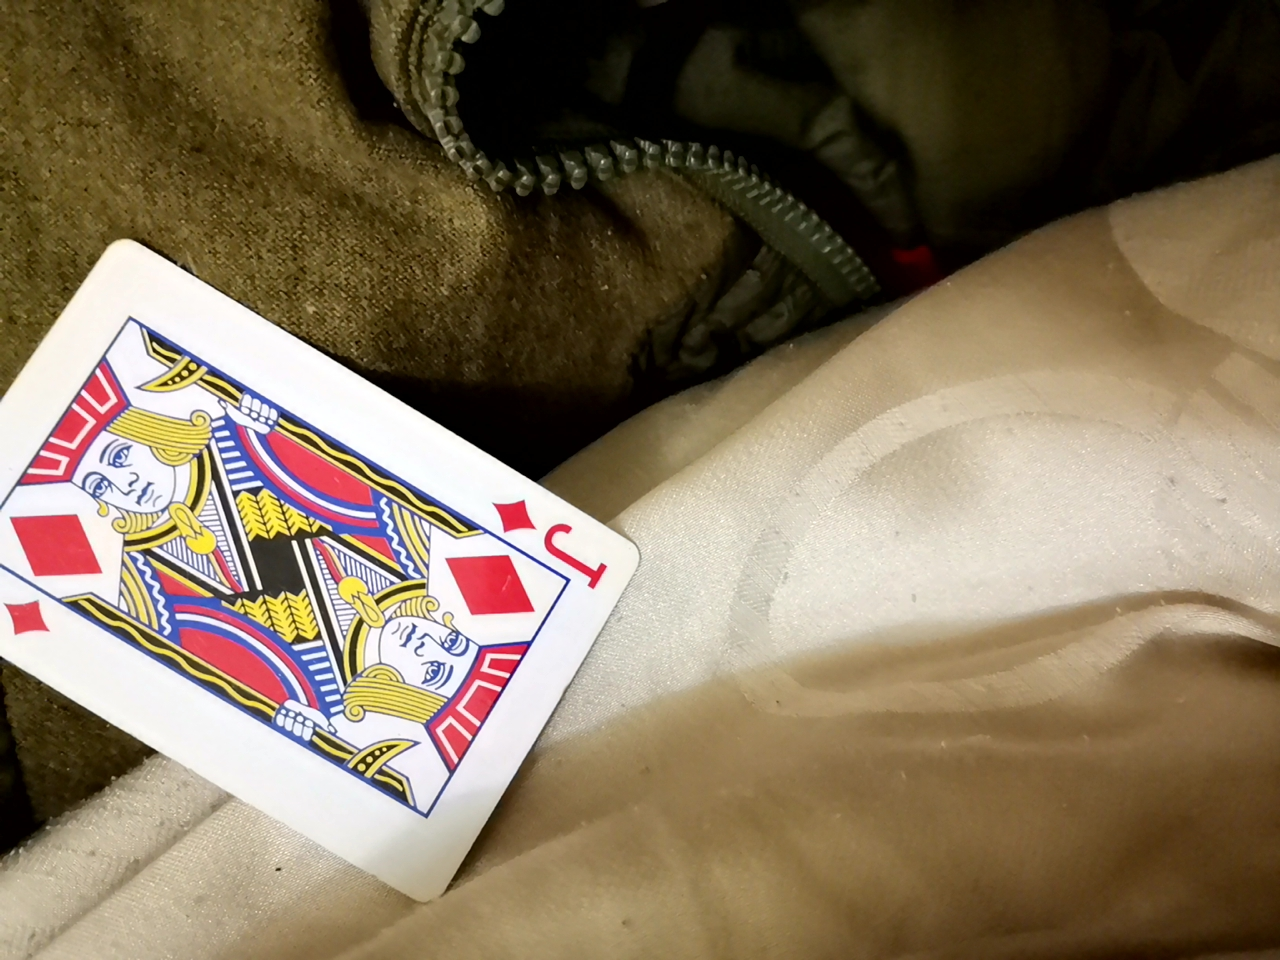fk j: (7, 258, 644, 893)
